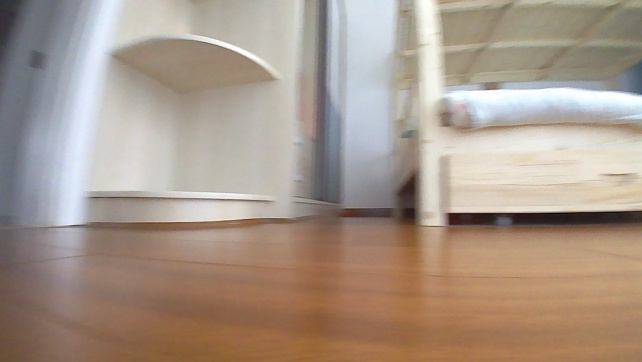bed1: (385, 0, 641, 226)
